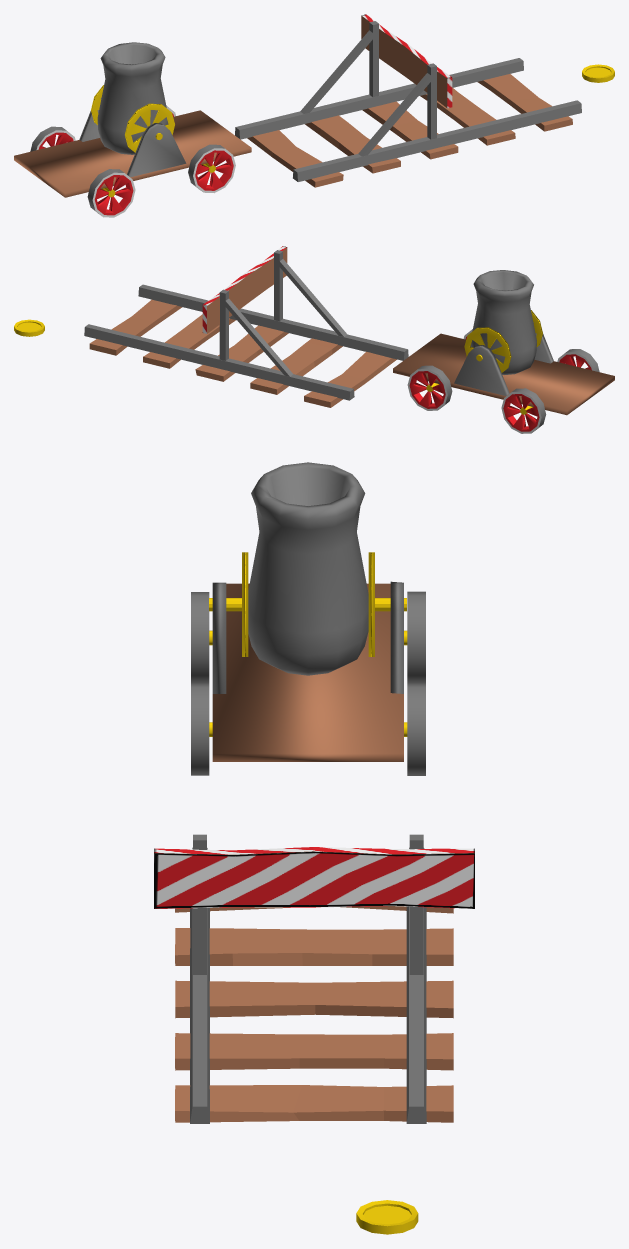
Rendered from BombingModal.fbx.
3 views of the same model, one above another, from view 1: azimuth 30°, elevation 25°; view 2: azimuth 150°, elevation 25°; view 3: azimuth 270°, elevation 25° (orthographic). The views are drawn at different scales.
Visible parts, largest first — view 1: Rails, Platdorm, Dead-endStop, Gun, Wheel2.002, Wheel2.001, WheelGun, Coin; view 2: Rails, Platdorm, Dead-endStop, Gun, Wheel2.002, Wheel2.001, WheelGun, Coin; view 3: Rails, Platdorm, Gun, Dead-endStop, Wheel2.001, Wheel2.002, Coin, WheelGun.
Part boxes in pixels (<box>): Rails: <box>235,58,581,187</box>; Platdorm: <box>14,98,251,197</box>; Dead-endStop: <box>300,14,452,156</box>; Gun: <box>97,42,168,154</box>; Wheel2.002: <box>30,126,135,217</box>; Wheel2.001: <box>166,105,235,193</box>; WheelGun: <box>91,85,174,152</box>; Coin: <box>582,64,614,82</box>; Rails: <box>84,284,408,407</box>; Platdorm: <box>393,322,614,415</box>; Dead-endStop: <box>202,246,347,376</box>; Gun: <box>471,270,536,374</box>; Wheel2.002: <box>501,349,599,433</box>; Wheel2.001: <box>407,329,472,410</box>; WheelGun: <box>464,310,542,372</box>; Coin: <box>14,319,44,336</box>; Rails: <box>175,847,453,1123</box>; Platdorm: <box>209,581,406,761</box>; Gun: <box>248,462,368,675</box>; Dead-endStop: <box>154,834,474,974</box>; Wheel2.001: <box>191,683,425,775</box>; Wheel2.002: <box>191,591,425,683</box>; Coin: <box>356,1200,418,1234</box>; WheelGun: <box>242,552,374,656</box>.
Bounding box in the file's own units: 41.43 × 10.41 × 10.38.
